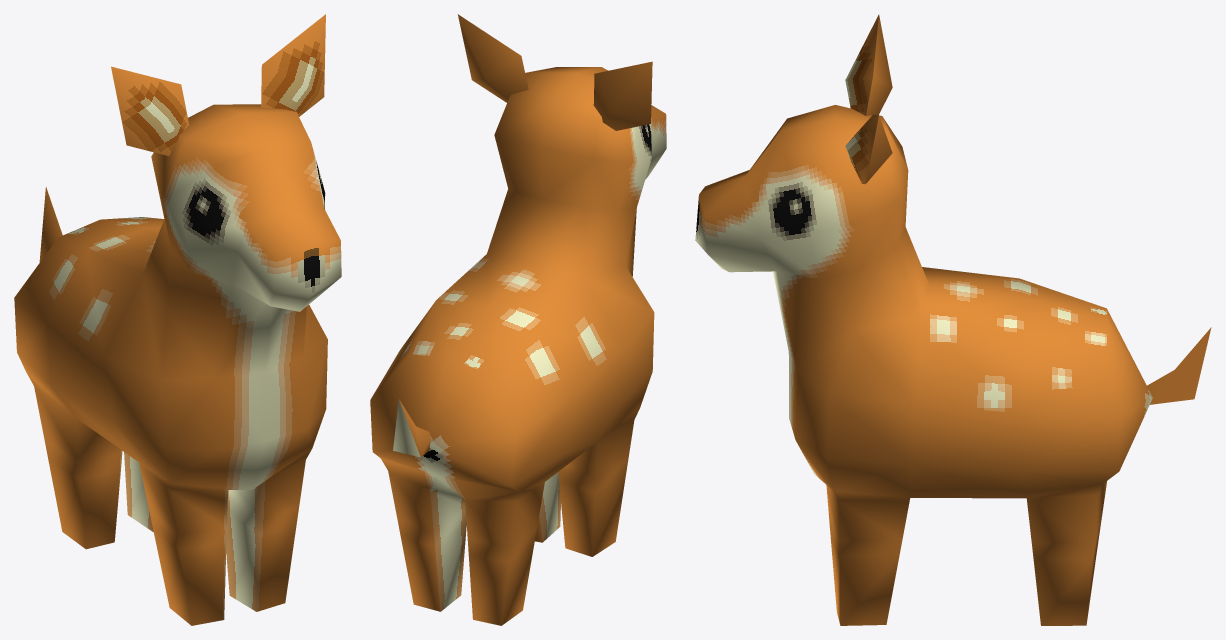
File: Deer [A].fbx
3 renders of one model, left to right at view 1: azimuth 30°, elevation 25°; view 2: azimuth 150°, elevation 25°; view 3: azimuth 270°, elevation 25°, orthographic. The views are drawn at different scales.
Visible parts, largest first — view 1: node_708bfc40_5a4c_45a9_af8f_69d52caad240_mesh0, node_6f7ade6a_6545_416b_9fd7_1998b0d4d32e_mesh0, node_700c9e78_4aba_408a_a1d7_4adf34de5101_mesh0, node_744574fb_9524_43c5_995d_c8ff88311adf_mesh0, node_dde6df7c_94f4_45c7_a5eb_422a877f7821_mesh0, node_86ac9820_ba21_4715_aafb_24a09a04baaf_mesh0, node_337e7a21_93e0_4182_ac64_530423b2774c_mesh0, node_868a4a60_aeea_44ed_aff7_5c166ef6fbf1_mesh0, node_a0b01959_1c35_4b00_b7f9_2ee02fa34098_mesh0, node_80a564f0_9354_49ec_bf62_34fedb2d60a0_mesh0, node_44da27b7_6c5c_4b06_a574_c90c111640a9_mesh0, node_466626ae_83f9_472e_a9e0_ff99bceadf9a_mesh0 (+31 smaller); view 2: node_a0b01959_1c35_4b00_b7f9_2ee02fa34098_mesh0, node_6eb10ae5_9322_429b_9bc4_bc1d1d8014b3_mesh0, node_5605f1f8_76ce_4bc2_86f4_b8553cb7d86f_mesh0, node_e181da74_e332_4efe_8f7e_d38e0f6c190c_mesh0, node_868a4a60_aeea_44ed_aff7_5c166ef6fbf1_mesh0, node_1253db63_60db_42ec_a7d7_f0b2965b3bd6_mesh0, node_e9fb6af8_e0cc_4140_b1c4_88840f4ebf83_mesh0, node_008987fa_04c2_4480_a3f5_3c22caec239a_mesh0, node_b70c91f6_ea9f_4b18_beff_0037ce7ea1e3_mesh0, node_6f7ade6a_6545_416b_9fd7_1998b0d4d32e_mesh0, node_ea18368b_c9cf_47a7_a75f_baa30dc293bf_mesh0, node_6a1a0559_03cf_462c_a6ac_5142a1387ff1_mesh0 (+31 smaller); view 3: node_a0b01959_1c35_4b00_b7f9_2ee02fa34098_mesh0, node_708bfc40_5a4c_45a9_af8f_69d52caad240_mesh0, node_6f7ade6a_6545_416b_9fd7_1998b0d4d32e_mesh0, node_2d5e3dce_3528_4291_b47c_ee3f1517b666_mesh0, node_63bb0ca4_c475_44ad_9349_72c47d8daaf5_mesh0, node_3f2f8f4a_4f7f_49e3_a85d_6a3cbc863ab4_mesh0, node_eab62bab_17d8_45c5_9d4a_a497c82d358f_mesh0, node_700c9e78_4aba_408a_a1d7_4adf34de5101_mesh0, node_7489340f_ece6_4dd2_ac1e_865ece59d206_mesh0, node_6eb10ae5_9322_429b_9bc4_bc1d1d8014b3_mesh0, node_1d2e8b9e_2ce5_44aa_812b_755e732b37b3_mesh0, node_008f9398_ab20_4eff_b346_c5a18aebacf3_mesh0 (+15 smaller).
Part boxes in pixels (bbox=[...]): node_708bfc40_5a4c_45a9_af8f_69d52caad240_mesh0: bbox=[104, 274, 325, 489]; node_6f7ade6a_6545_416b_9fd7_1998b0d4d32e_mesh0: bbox=[162, 104, 329, 305]; node_700c9e78_4aba_408a_a1d7_4adf34de5101_mesh0: bbox=[111, 66, 323, 377]; node_744574fb_9524_43c5_995d_c8ff88311adf_mesh0: bbox=[185, 147, 287, 226]; node_dde6df7c_94f4_45c7_a5eb_422a877f7821_mesh0: bbox=[51, 356, 164, 461]; node_86ac9820_ba21_4715_aafb_24a09a04baaf_mesh0: bbox=[237, 207, 340, 305]; node_337e7a21_93e0_4182_ac64_530423b2774c_mesh0: bbox=[167, 247, 232, 377]; node_868a4a60_aeea_44ed_aff7_5c166ef6fbf1_mesh0: bbox=[14, 252, 104, 355]; node_a0b01959_1c35_4b00_b7f9_2ee02fa34098_mesh0: bbox=[87, 227, 160, 355]; node_80a564f0_9354_49ec_bf62_34fedb2d60a0_mesh0: bbox=[261, 14, 325, 109]; node_44da27b7_6c5c_4b06_a574_c90c111640a9_mesh0: bbox=[226, 460, 305, 595]; node_466626ae_83f9_472e_a9e0_ff99bceadf9a_mesh0: bbox=[153, 490, 227, 606]; node_a0b01959_1c35_4b00_b7f9_2ee02fa34098_mesh0: bbox=[370, 254, 622, 399]; node_6eb10ae5_9322_429b_9bc4_bc1d1d8014b3_mesh0: bbox=[410, 300, 541, 434]; node_5605f1f8_76ce_4bc2_86f4_b8553cb7d86f_mesh0: bbox=[487, 199, 625, 277]; node_e181da74_e332_4efe_8f7e_d38e0f6c190c_mesh0: bbox=[494, 117, 633, 199]; node_868a4a60_aeea_44ed_aff7_5c166ef6fbf1_mesh0: bbox=[515, 326, 622, 435]; node_1253db63_60db_42ec_a7d7_f0b2965b3bd6_mesh0: bbox=[429, 357, 514, 444]; node_e9fb6af8_e0cc_4140_b1c4_88840f4ebf83_mesh0: bbox=[370, 354, 447, 451]; node_008987fa_04c2_4480_a3f5_3c22caec239a_mesh0: bbox=[373, 435, 515, 485]; node_b70c91f6_ea9f_4b18_beff_0037ce7ea1e3_mesh0: bbox=[511, 393, 576, 501]; node_6f7ade6a_6545_416b_9fd7_1998b0d4d32e_mesh0: bbox=[494, 67, 651, 204]; node_ea18368b_c9cf_47a7_a75f_baa30dc293bf_mesh0: bbox=[468, 482, 544, 618]; node_6a1a0559_03cf_462c_a6ac_5142a1387ff1_mesh0: bbox=[559, 420, 634, 547]; node_a0b01959_1c35_4b00_b7f9_2ee02fa34098_mesh0: bbox=[920, 267, 1117, 418]; node_708bfc40_5a4c_45a9_af8f_69d52caad240_mesh0: bbox=[796, 317, 920, 491]; node_6f7ade6a_6545_416b_9fd7_1998b0d4d32e_mesh0: bbox=[707, 105, 902, 279]; node_2d5e3dce_3528_4291_b47c_ee3f1517b666_mesh0: bbox=[777, 227, 920, 370]; node_63bb0ca4_c475_44ad_9349_72c47d8daaf5_mesh0: bbox=[912, 404, 1102, 498]; node_3f2f8f4a_4f7f_49e3_a85d_6a3cbc863ab4_mesh0: bbox=[1021, 413, 1119, 483]; node_eab62bab_17d8_45c5_9d4a_a497c82d358f_mesh0: bbox=[745, 131, 849, 234]; node_700c9e78_4aba_408a_a1d7_4adf34de5101_mesh0: bbox=[699, 14, 892, 369]; node_7489340f_ece6_4dd2_ac1e_865ece59d206_mesh0: bbox=[916, 318, 1173, 556]; node_6eb10ae5_9322_429b_9bc4_bc1d1d8014b3_mesh0: bbox=[1019, 278, 1106, 347]; node_1d2e8b9e_2ce5_44aa_812b_755e732b37b3_mesh0: bbox=[830, 498, 910, 609]; node_008f9398_ab20_4eff_b346_c5a18aebacf3_mesh0: bbox=[829, 465, 1025, 501].
Size of the model in its own units: 107 by 267 by 232.
Materials: 2 (2 with a texture image).
